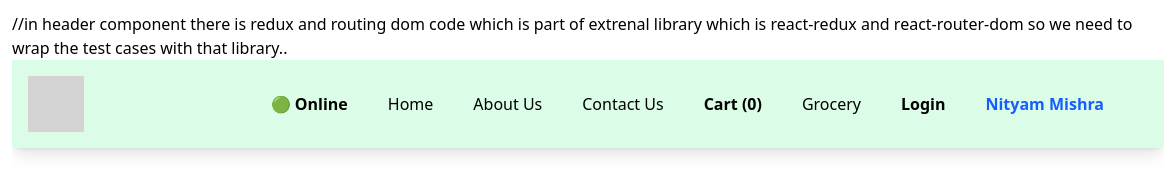
Test: Should be change login button to logout on click
Click the button "Login". click: (923, 104)
box: [901,92,946,116]
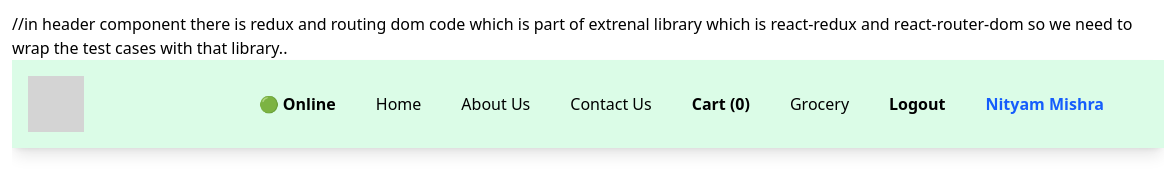
Expected: the button "Logout" is shown, [889,92,945,116]
